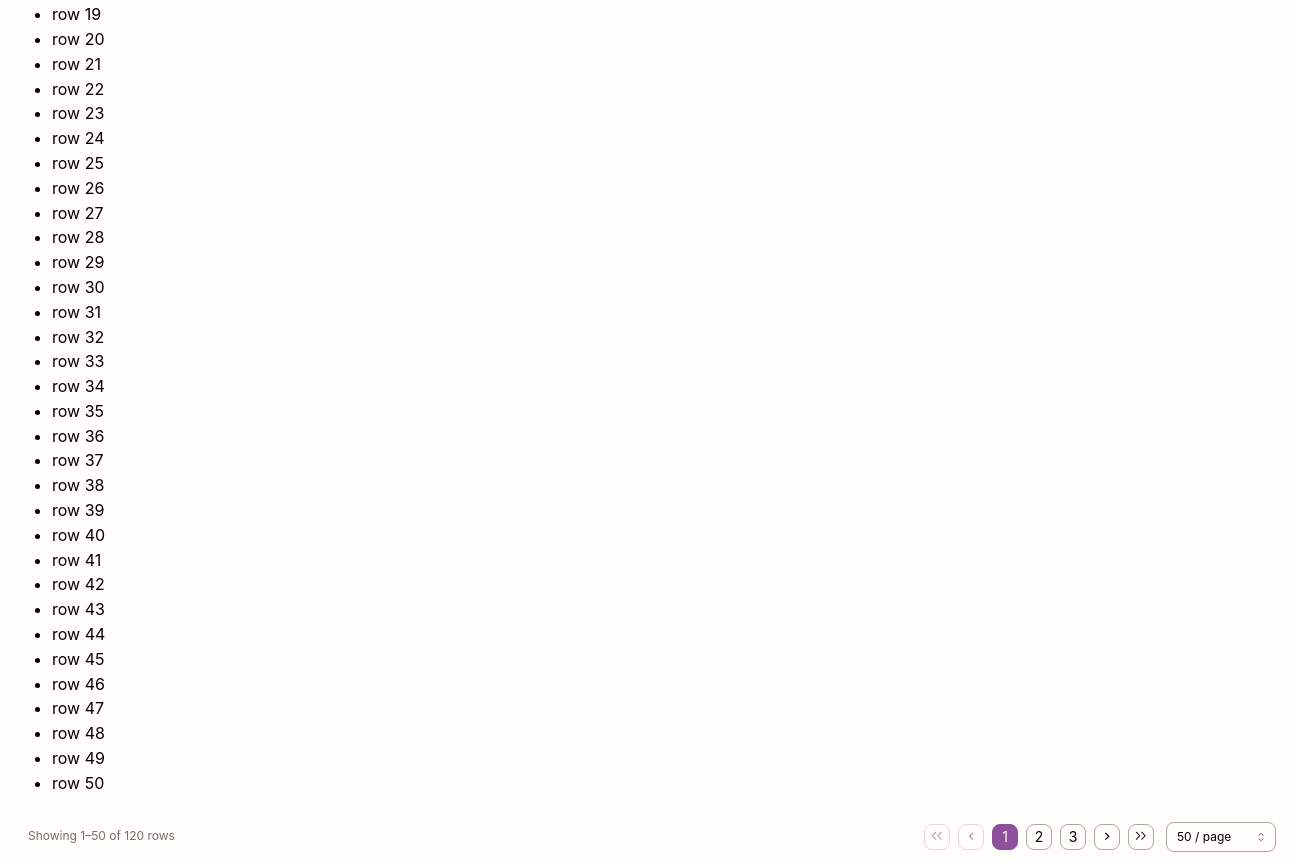
Test case: TablePagination › returns to row 1 when the page size changes, not to wherever the offset lands
(page scrolled)
Click the button "3".
click(1073, 837)  # box [1060,824,1086,850]
(page scrolled)
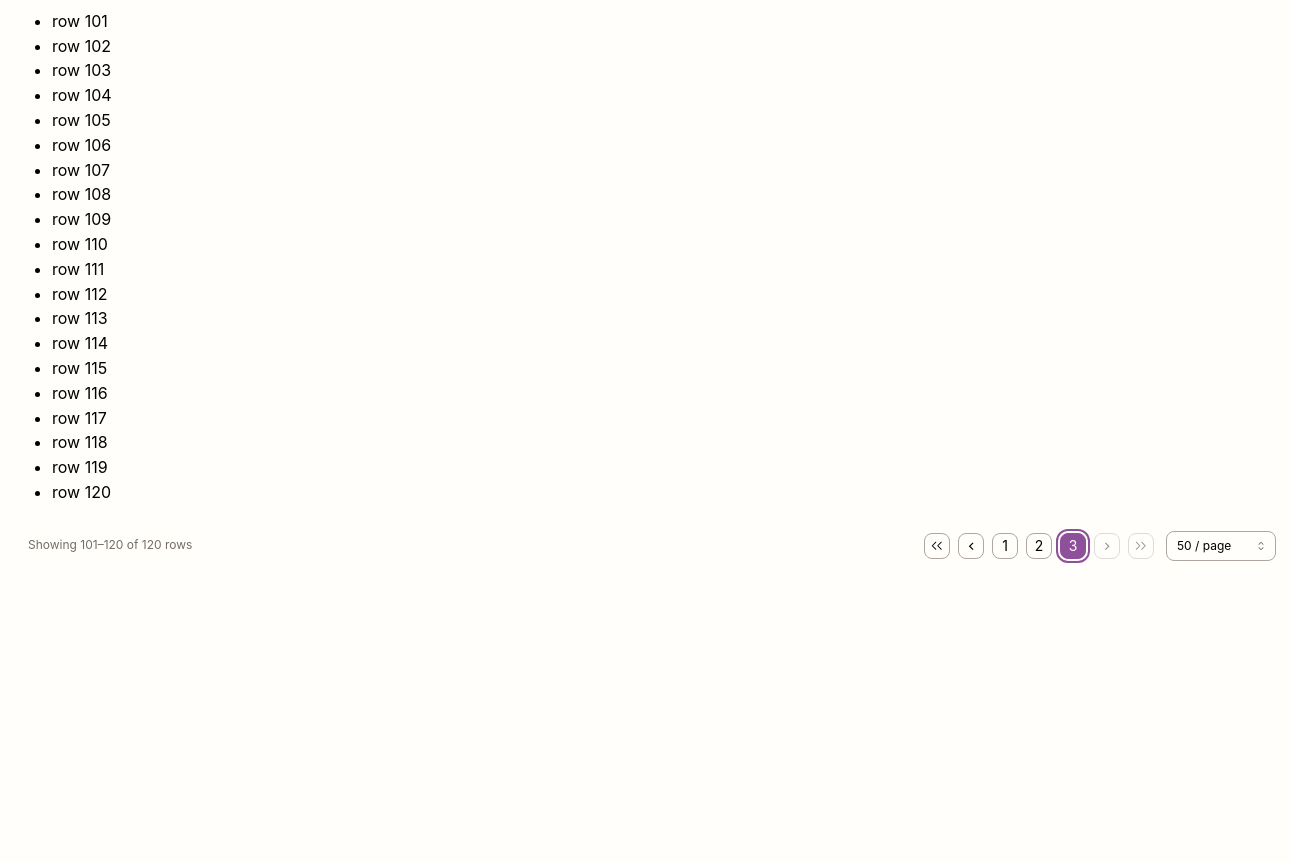
Click the dropdown named "Rows per page".
click(1221, 546)  # box [1166,531,1276,561]
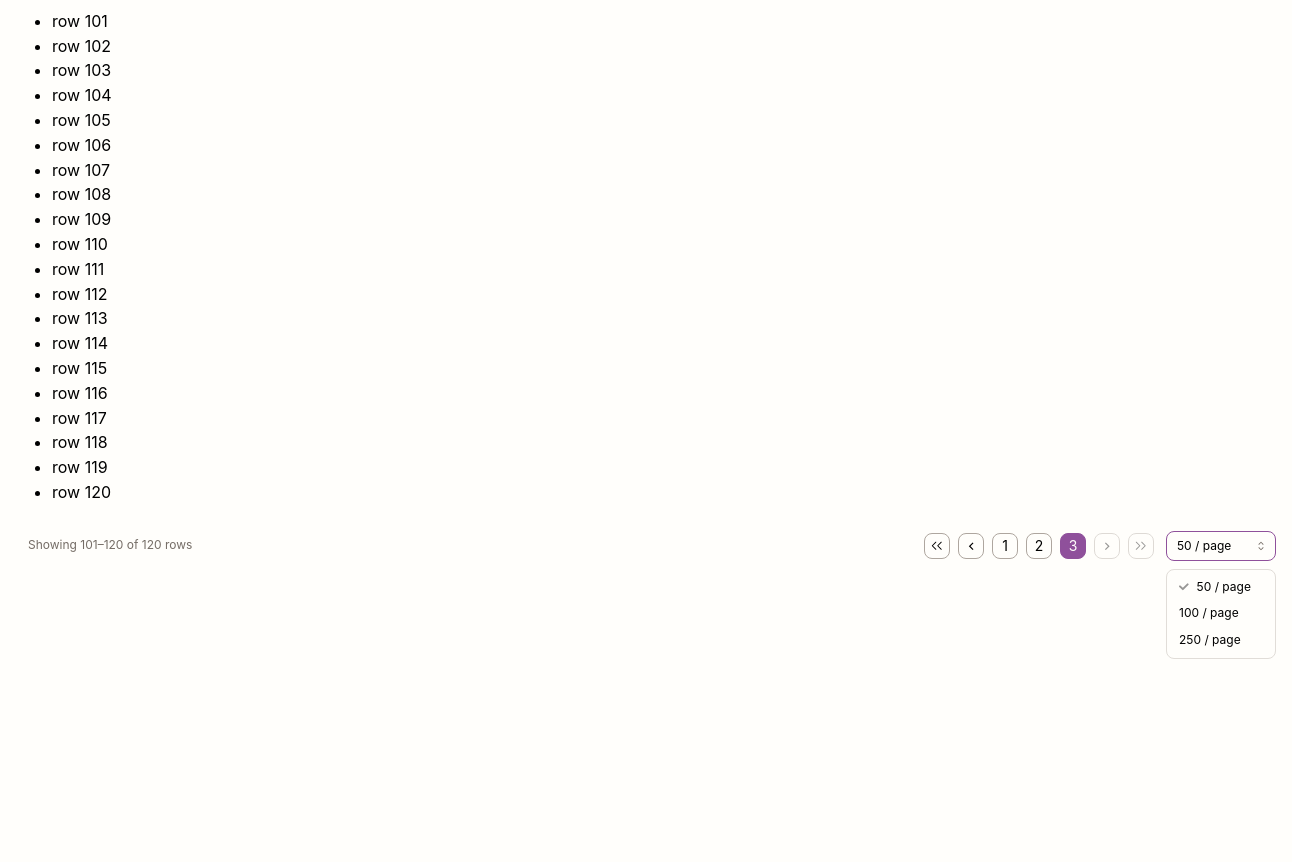
Click the option "250 / page".
click(1210, 639)  # box [1179,632,1241,647]
(page scrolled)
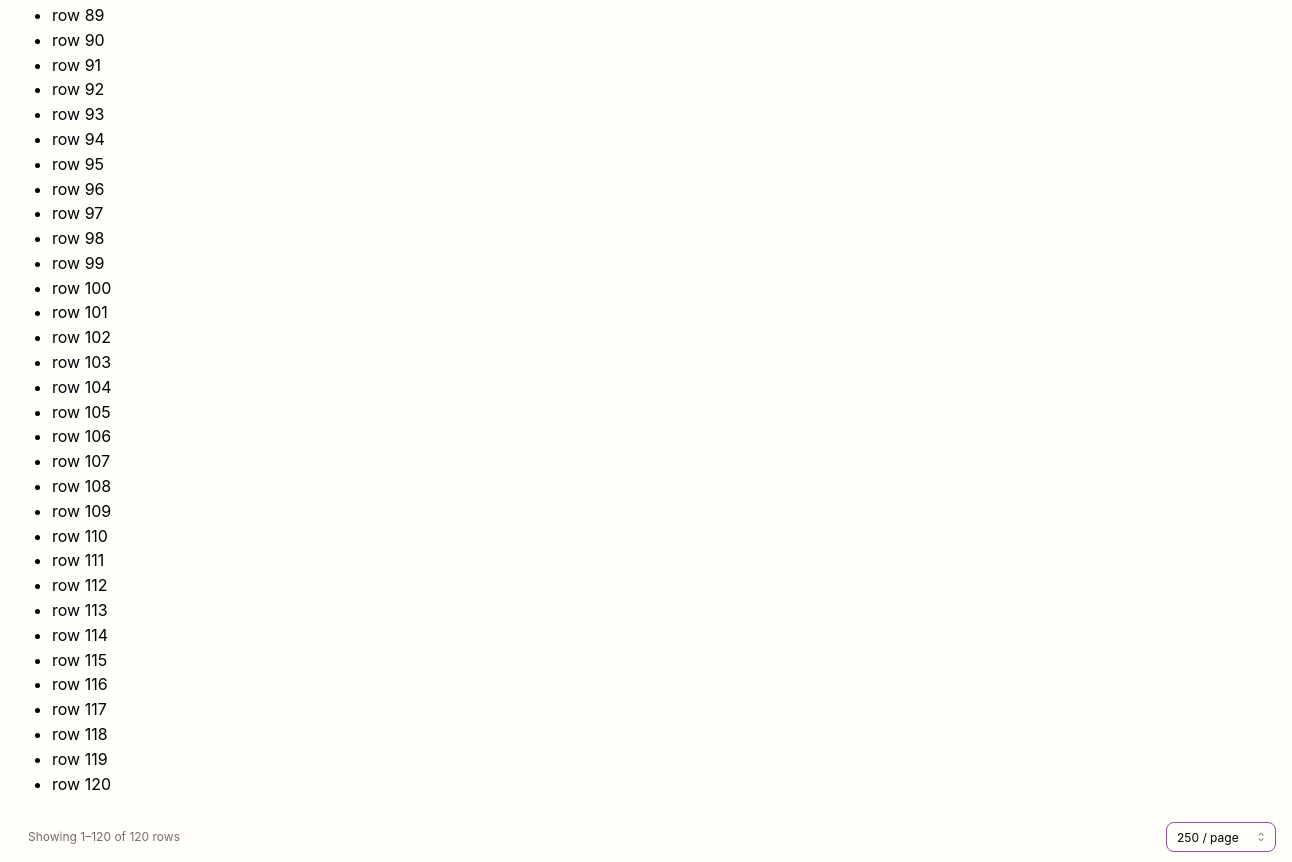
Result: the list item "row 120" is shown at [52,774,111,794]
Result: the text "Showing 1–120 of 120 rows" is shown at [28,829,180,846]
